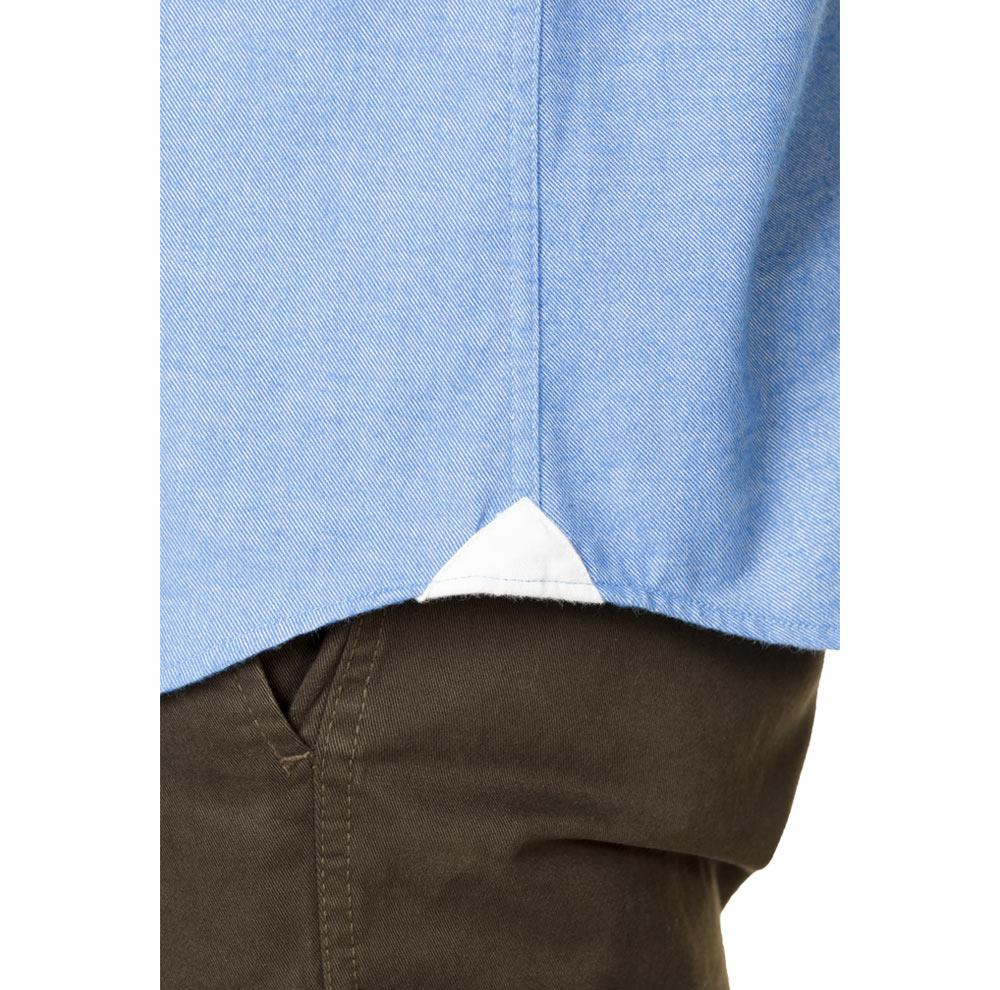teeshirt: (145, 1, 850, 685)
